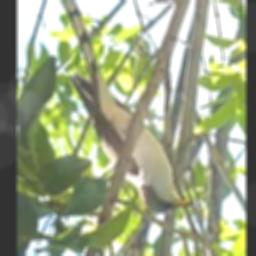Cuckoo: (62, 0, 194, 214)
